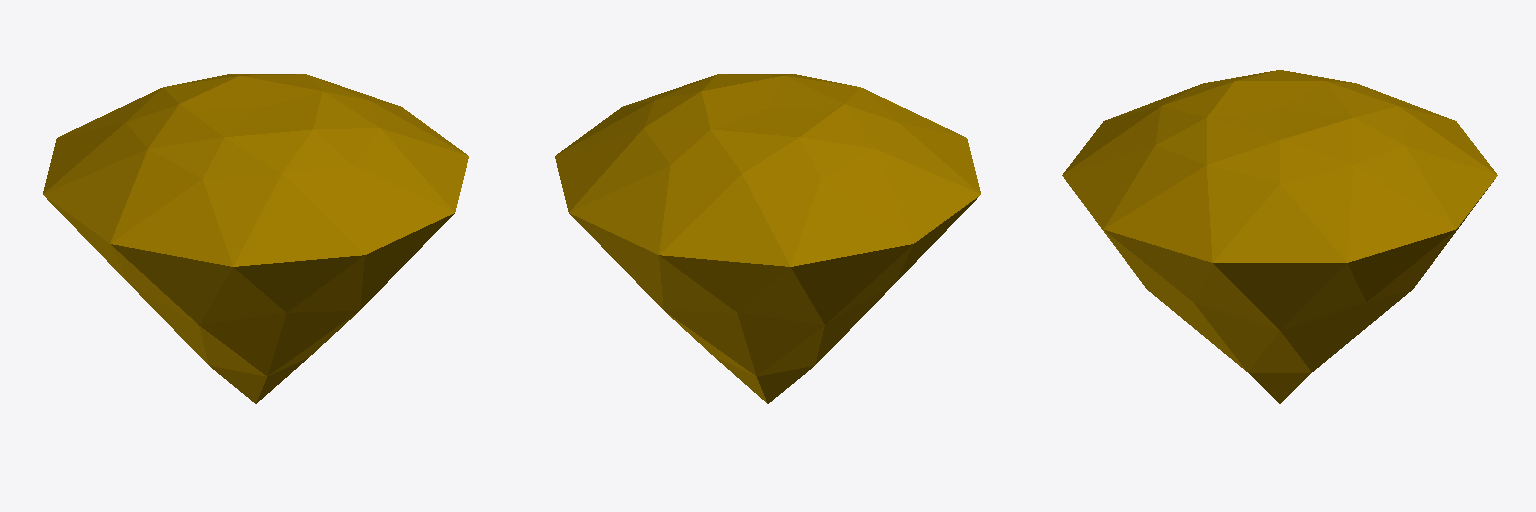
The model's file is topazGem.obj.
3 renders of one model, left to right at view 1: azimuth 30°, elevation 25°; view 2: azimuth 150°, elevation 25°; view 3: azimuth 270°, elevation 25°, orthographic.
Visible parts, largest first — view 1: Icosphere.002; view 2: Icosphere.002; view 3: Icosphere.002.
Boxes of the visible parts, box(x1,y1,x2,y2) form: Icosphere.002: box(43, 74, 468, 403); Icosphere.002: box(555, 74, 980, 403); Icosphere.002: box(1062, 70, 1497, 403).
Size of the model in its own units: 2.83 by 2.23 by 2.97.